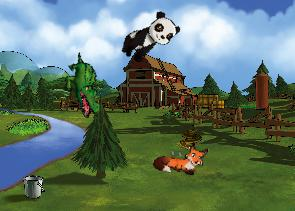crocodile: (52, 51, 115, 120)
fox: (152, 136, 209, 179)
panda: (116, 7, 182, 69)
